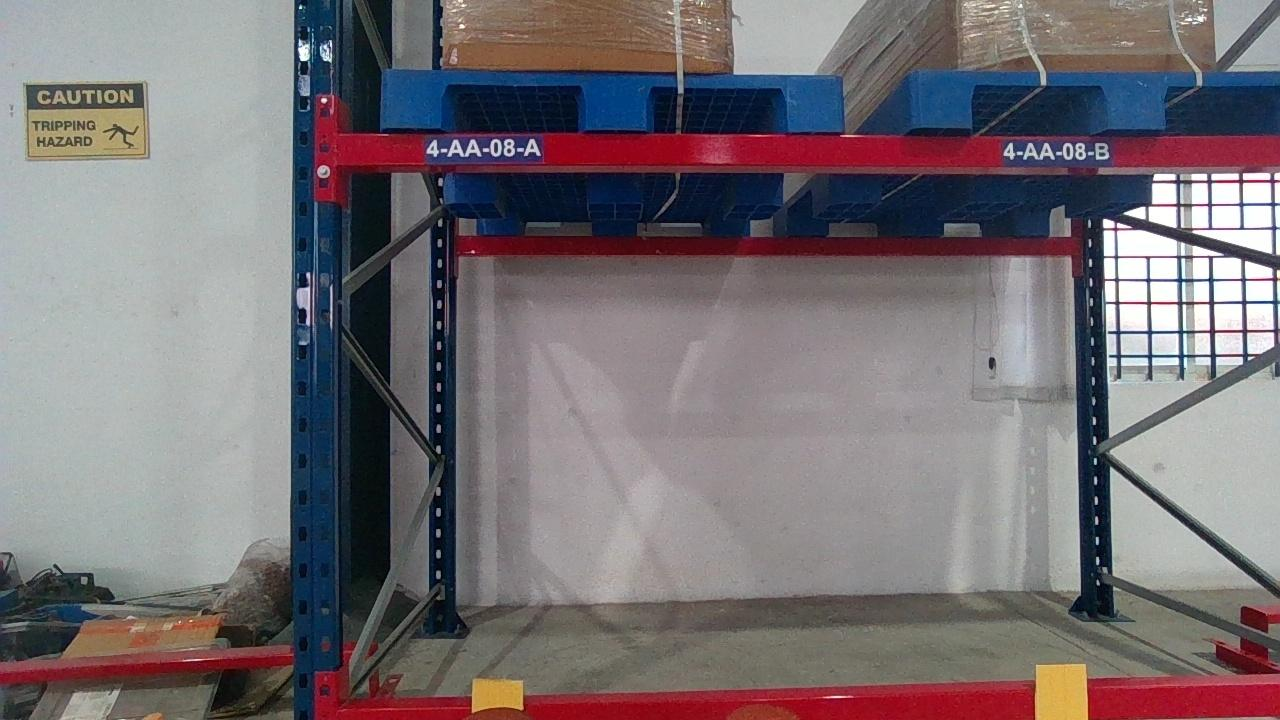h_rack: (333, 130, 1279, 166)
orange_strip: (1034, 663, 1090, 719)
small_pallet: (379, 70, 846, 129), (908, 69, 1279, 128)
